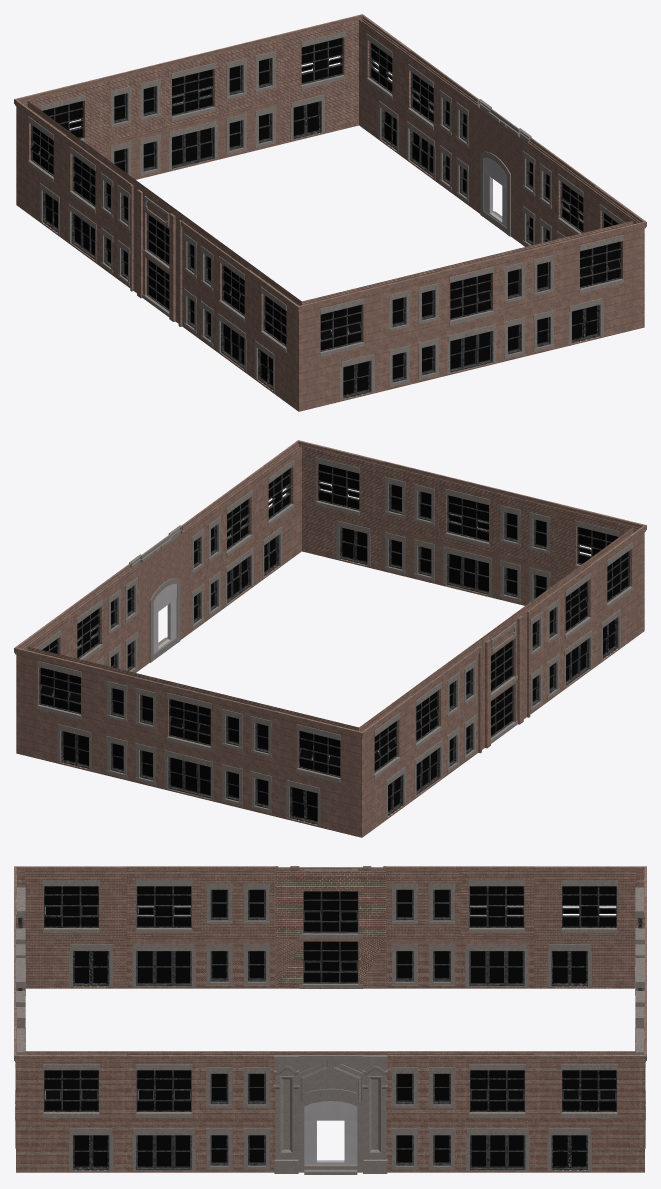
Rendered from BuildingB_Bottom_VarB.fbx.
The picture shows the model from 3 angles, top to bottom: view 1: azimuth 30°, elevation 25°; view 2: azimuth 150°, elevation 25°; view 3: azimuth 270°, elevation 25°; orthographic projection. The views are drawn at different scales.
Visible parts, largest first — view 1: BuildingB_Bottom_VarB; view 2: BuildingB_Bottom_VarB; view 3: BuildingB_Bottom_VarB.
Boxes of the visible parts, <box> form: BuildingB_Bottom_VarB: <box>14,14,646,411</box>; BuildingB_Bottom_VarB: <box>14,440,646,837</box>; BuildingB_Bottom_VarB: <box>14,866,646,1174</box>.
Bounding box in the file's own units: 2444 × 700 × 3416.
